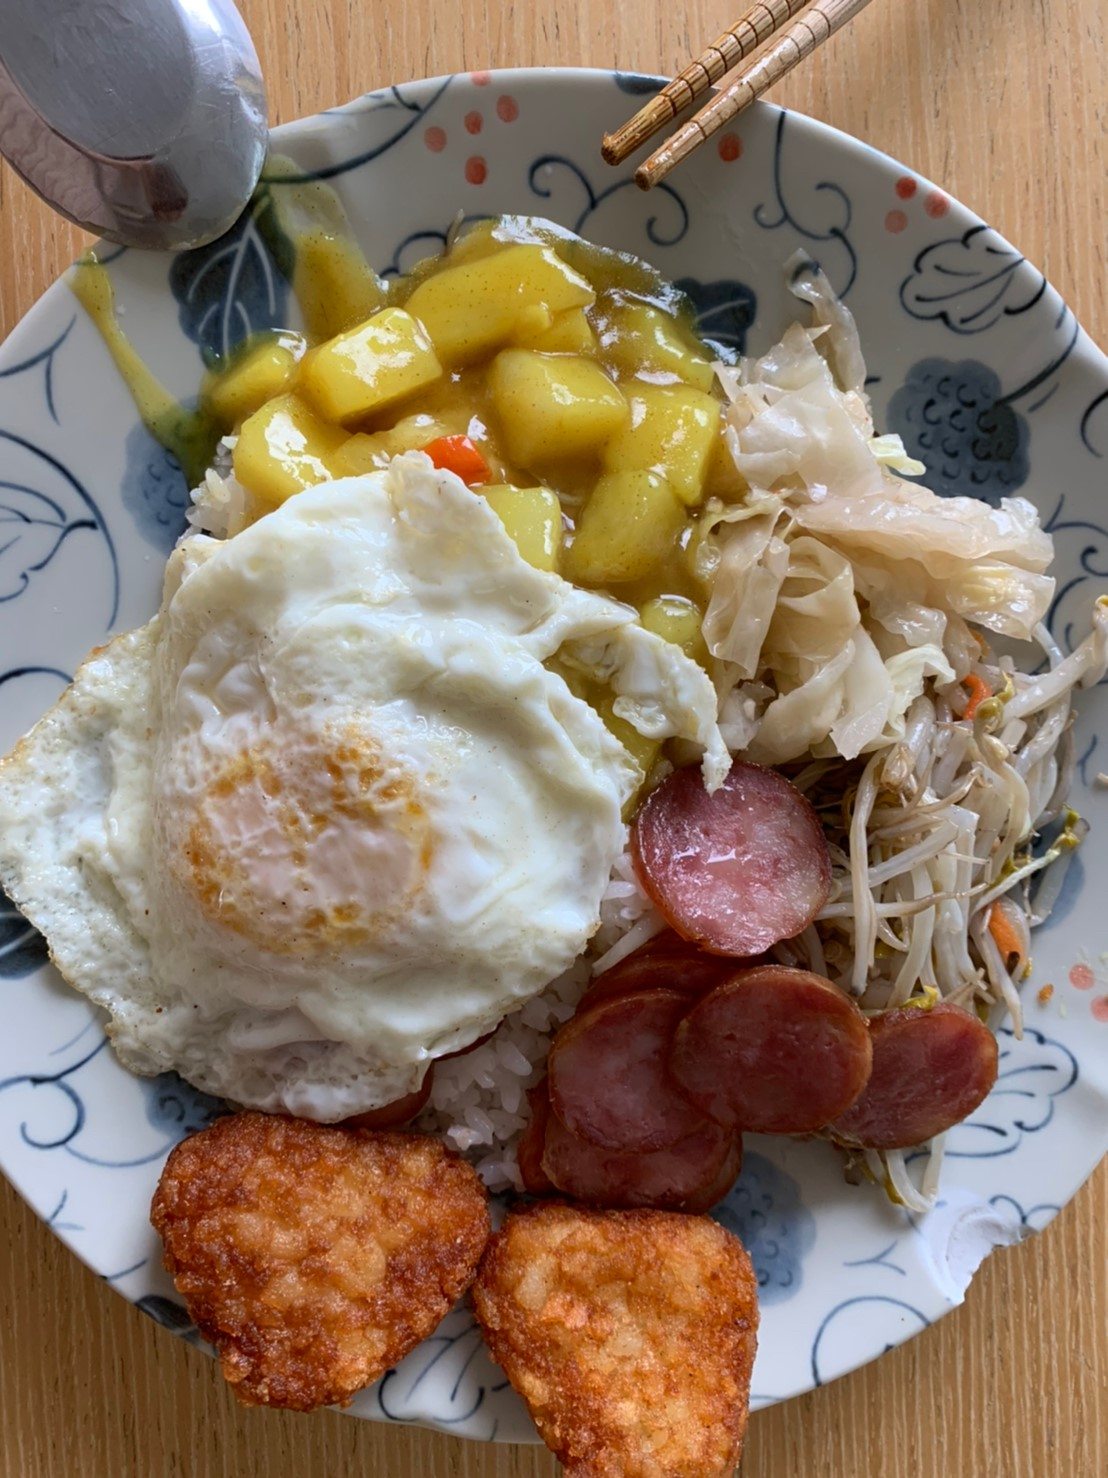chinese_cabbage: (724, 324, 1058, 761)
chinese_sausage: (526, 762, 997, 1203)
curry: (193, 213, 727, 562)
fried_eggs: (1, 475, 651, 1111)
mung_bean_sprouts: (857, 658, 1061, 1003)
rice: (173, 446, 250, 543)
triangle_hash_brown: (152, 1120, 763, 1478)
